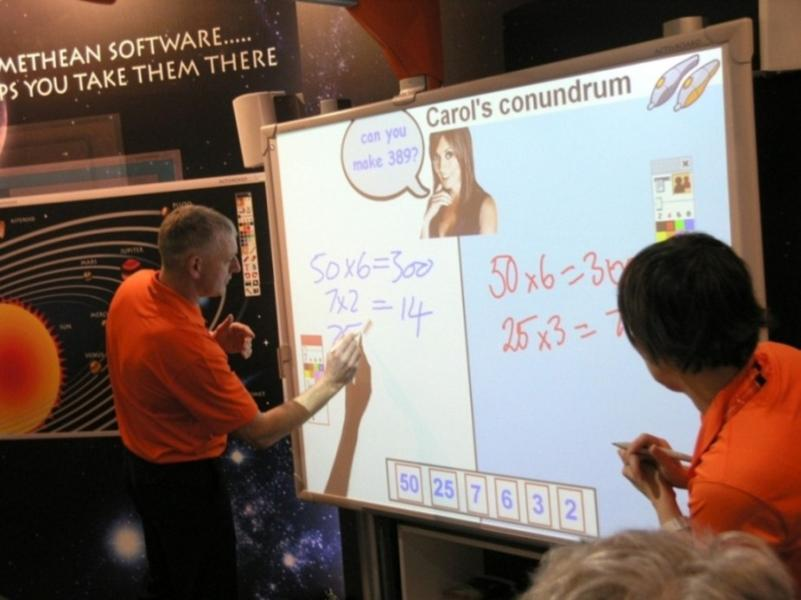person: (105, 203, 367, 597)
